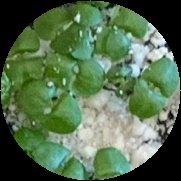Basil: (131, 58, 181, 120), (22, 85, 78, 131), (38, 52, 102, 92), (66, 2, 109, 60), (105, 9, 150, 58), (4, 25, 44, 80), (33, 142, 88, 180), (36, 9, 77, 54), (96, 151, 151, 181)
